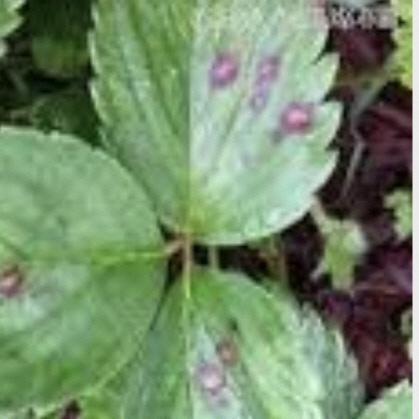Leaf_Spot: (74, 0, 369, 264), (85, 172, 343, 418), (0, 0, 171, 294)
